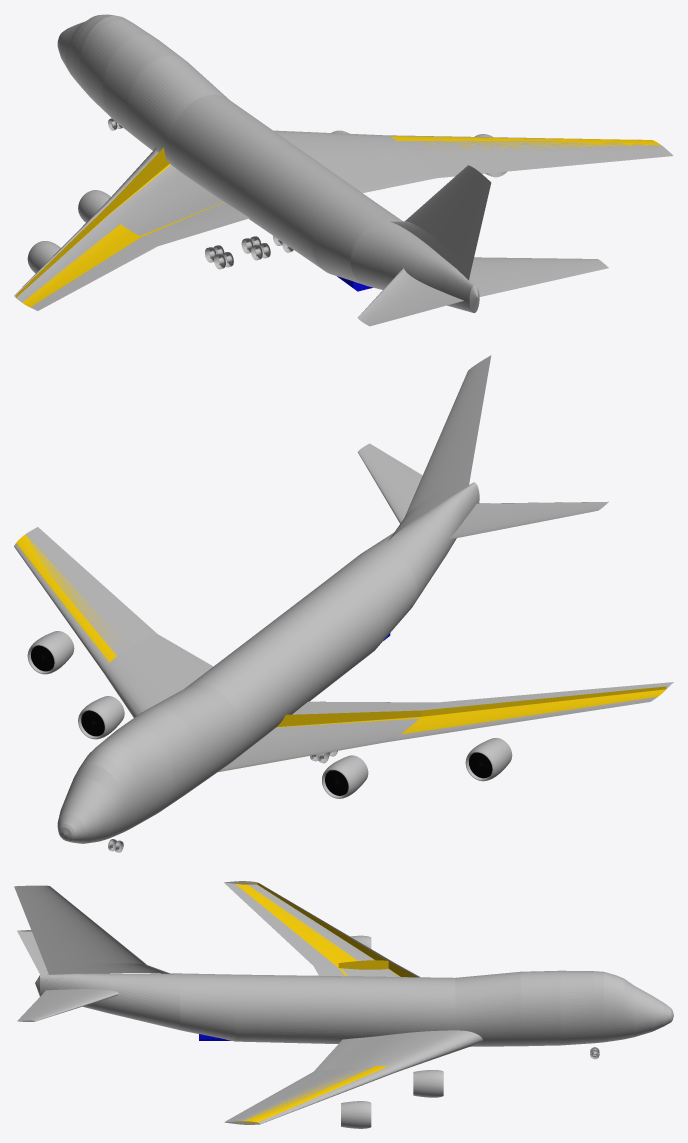
Rendered from Boeing_747_100.gltf.
3 renders of one model, top to bottom at view 1: azimuth 30°, elevation 25°; view 2: azimuth 150°, elevation 25°; view 3: azimuth 270°, elevation 25°, orthographic. The views are drawn at different scales.
Visible parts, largest first — view 1: Renderer Node; view 2: Renderer Node; view 3: Renderer Node.
Part boxes in pixels (x1,y1,x2,y2): Renderer Node: [14, 14, 673, 326]; Renderer Node: [14, 355, 673, 852]; Renderer Node: [14, 881, 673, 1128].
Bounding box in the file's own units: 61 × 21.03 × 70.86.
